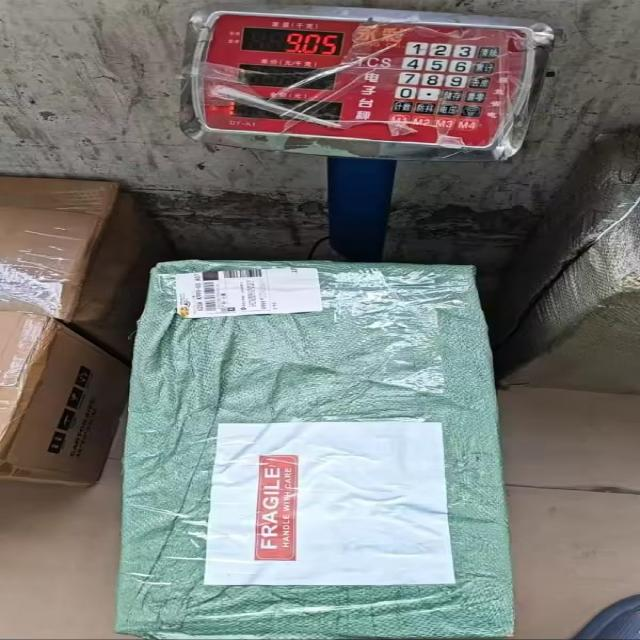export_mark_label: (175, 266, 330, 320)
fragile_label: (243, 447, 315, 574)
